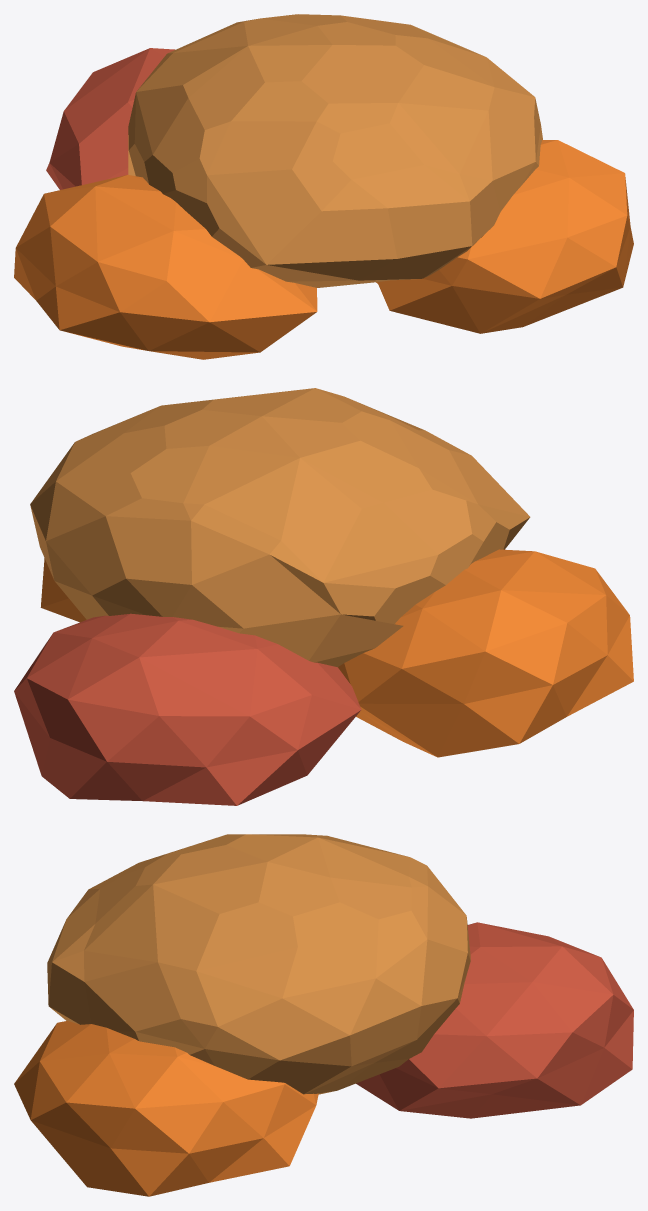
File: klen_mk3.fbx
3 renders of one model, top to bottom at view 1: azimuth 30°, elevation 25°; view 2: azimuth 150°, elevation 25°; view 3: azimuth 270°, elevation 25°, orthographic. The views are drawn at different scales.
Parts seen in each view (by area): view 1: Icosphere.083, Icosphere.084, Icosphere.086, Icosphere.085; view 2: Icosphere.083, Icosphere.085, Icosphere.084, Icosphere.086; view 3: Icosphere.083, Icosphere.086, Icosphere.085.
Boxes of the visible parts, box(x1,y1,x2,y2) form: Icosphere.083: box(128, 14, 542, 287); Icosphere.084: box(14, 175, 317, 359); Icosphere.086: box(376, 140, 633, 333); Icosphere.085: box(46, 48, 175, 189); Icosphere.083: box(30, 388, 530, 667); Icosphere.085: box(14, 613, 361, 805); Icosphere.084: box(338, 549, 633, 757); Icosphere.086: box(40, 558, 86, 622); Icosphere.083: box(47, 834, 470, 1094); Icosphere.086: box(14, 1021, 318, 1196); Icosphere.085: box(356, 922, 633, 1118).
Bounding box in the file's own units: 176 × 76.79 × 172.
